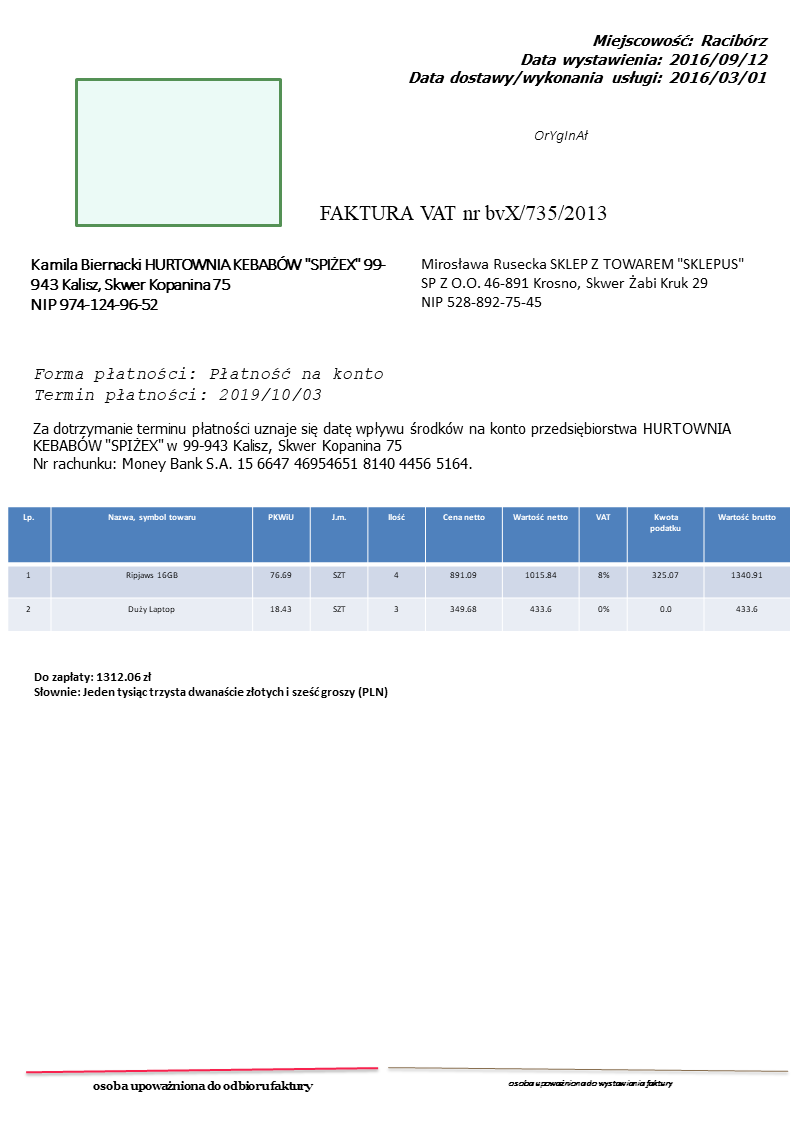Table: (6, 505, 792, 631)
TextBox: (29, 419, 736, 474), (405, 29, 772, 90), (28, 254, 388, 314), (417, 254, 748, 312), (31, 364, 385, 405), (29, 668, 390, 701), (317, 202, 610, 224), (89, 1077, 314, 1093), (505, 1076, 675, 1090), (531, 126, 589, 144)
